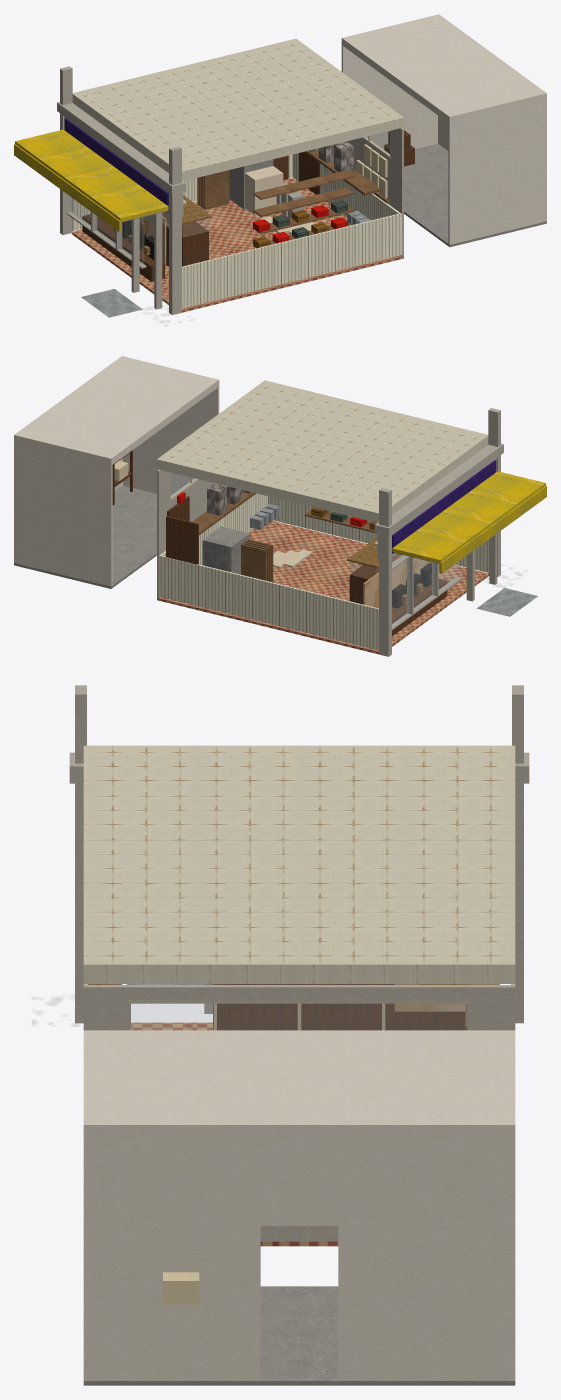
Rendered from shop_photo_supplies.gltf.
The picture shows the model from 3 angles, top to bottom: view 1: azimuth 30°, elevation 25°; view 2: azimuth 150°, elevation 25°; view 3: azimuth 270°, elevation 25°; orthographic projection. The views are drawn at different scales.
Parts seen in each view (by area): view 1: F01_OWN_SHOP_PHOTO_SUPPLIES_retail_shop_photo_supplies_plast (×2), F01_OWN_SHOP_PHOTO_SUPPLIES_retail_shop_photo_supplies_tin_c, F01_OWN_SHOP_PHOTO_SUPPLIES_retail_shop_photo_supplies_wains, F01_OWN_SHOP_PHOTO_SUPPLIES_retail_shop_photo_supplies_awnin, F01_OWN_SHOP_PHOTO_SUPPLIES_retail_shop_photo_supplies_linol, F01_OWN_SHOP_PHOTO_SUPPLIES_retail_shop_photo_supplies_timbe, F01_OWN_SHOP_PHOTO_SUPPLIES_retail_shop_photo_supplies_concr, F01_OWN_SHOP_PHOTO_SUPPLIES_retail_shop_photo_supplies_wood_, F01_OWN_SHOP_PHOTO_SUPPLIES_retail_shop_photo_supplies_glass, F01_OWN_SHOP_PHOTO_SUPPLIES_retail_shop_photo_supplies_ename, F01_OWN_SHOP_PHOTO_SUPPLIES_retail_shop_photo_supplies_felt_, F01_OWN_SHOP_PHOTO_SUPPLIES_retail_shop_photo_supplies_metal (+9 smaller); view 2: F01_OWN_SHOP_PHOTO_SUPPLIES_retail_shop_photo_supplies_plast (×2), F01_OWN_SHOP_PHOTO_SUPPLIES_retail_shop_photo_supplies_tin_c, F01_OWN_SHOP_PHOTO_SUPPLIES_retail_shop_photo_supplies_wains, F01_OWN_SHOP_PHOTO_SUPPLIES_retail_shop_photo_supplies_linol, F01_OWN_SHOP_PHOTO_SUPPLIES_retail_shop_photo_supplies_awnin, F01_OWN_SHOP_PHOTO_SUPPLIES_retail_shop_photo_supplies_concr, F01_OWN_SHOP_PHOTO_SUPPLIES_retail_shop_photo_supplies_wood_, F01_OWN_SHOP_PHOTO_SUPPLIES_retail_shop_photo_supplies_glass, F01_OWN_SHOP_PHOTO_SUPPLIES_retail_shop_photo_supplies_timbe, F01_OWN_SHOP_PHOTO_SUPPLIES_retail_shop_photo_supplies_metal, F01_OWN_SHOP_PHOTO_SUPPLIES_retail_shop_photo_supplies_felt_, F01_OWN_SHOP_PHOTO_SUPPLIES_retail_shop_photo_supplies_hull- (+7 smaller); view 3: F01_OWN_SHOP_PHOTO_SUPPLIES_retail_shop_photo_supplies_plast (×2), F01_OWN_SHOP_PHOTO_SUPPLIES_retail_shop_photo_supplies_tin_c, F01_OWN_SHOP_PHOTO_SUPPLIES_retail_shop_photo_supplies_concr, F01_OWN_SHOP_PHOTO_SUPPLIES_retail_shop_photo_supplies_glass, F01_OWN_SHOP_PHOTO_SUPPLIES_retail_shop_photo_supplies_wood_, F01_OWN_SHOP_PHOTO_SUPPLIES_retail_shop_photo_supplies_paper, F01_OWN_SHOP_PHOTO_SUPPLIES_retail_shop_photo_supplies_linol, F01_OWN_SHOP_PHOTO_SUPPLIES_retail_shop_photo_supplies_trim-.
Boxes of the visible parts, x1,y1,x2,y2 form: F01_OWN_SHOP_PHOTO_SUPPLIES_retail_shop_photo_supplies_plast (×2): [57, 14, 546, 314]; F01_OWN_SHOP_PHOTO_SUPPLIES_retail_shop_photo_supplies_tin_c: [72, 38, 403, 180]; F01_OWN_SHOP_PHOTO_SUPPLIES_retail_shop_photo_supplies_wains: [72, 153, 402, 308]; F01_OWN_SHOP_PHOTO_SUPPLIES_retail_shop_photo_supplies_awnin: [14, 129, 168, 232]; F01_OWN_SHOP_PHOTO_SUPPLIES_retail_shop_photo_supplies_linol: [71, 178, 403, 312]; F01_OWN_SHOP_PHOTO_SUPPLIES_retail_shop_photo_supplies_timbe: [197, 150, 389, 247]; F01_OWN_SHOP_PHOTO_SUPPLIES_retail_shop_photo_supplies_concr: [404, 144, 546, 247]; F01_OWN_SHOP_PHOTO_SUPPLIES_retail_shop_photo_supplies_wood_: [82, 130, 414, 281]; F01_OWN_SHOP_PHOTO_SUPPLIES_retail_shop_photo_supplies_glass: [69, 131, 389, 265]; F01_OWN_SHOP_PHOTO_SUPPLIES_retail_shop_photo_supplies_ename: [245, 166, 314, 234]; F01_OWN_SHOP_PHOTO_SUPPLIES_retail_shop_photo_supplies_felt_: [64, 118, 168, 211]; F01_OWN_SHOP_PHOTO_SUPPLIES_retail_shop_photo_supplies_metal: [81, 210, 370, 317]; F01_OWN_SHOP_PHOTO_SUPPLIES_retail_shop_photo_supplies_plast (×2): [14, 356, 503, 656]; F01_OWN_SHOP_PHOTO_SUPPLIES_retail_shop_photo_supplies_tin_c: [157, 380, 488, 522]; F01_OWN_SHOP_PHOTO_SUPPLIES_retail_shop_photo_supplies_wains: [157, 493, 488, 650]; F01_OWN_SHOP_PHOTO_SUPPLIES_retail_shop_photo_supplies_linol: [157, 521, 489, 654]; F01_OWN_SHOP_PHOTO_SUPPLIES_retail_shop_photo_supplies_awnin: [392, 471, 546, 573]; F01_OWN_SHOP_PHOTO_SUPPLIES_retail_shop_photo_supplies_concr: [14, 485, 156, 588]; F01_OWN_SHOP_PHOTO_SUPPLIES_retail_shop_photo_supplies_wood_: [112, 450, 447, 636]; F01_OWN_SHOP_PHOTO_SUPPLIES_retail_shop_photo_supplies_glass: [171, 473, 459, 627]; F01_OWN_SHOP_PHOTO_SUPPLIES_retail_shop_photo_supplies_timbe: [192, 492, 374, 582]; F01_OWN_SHOP_PHOTO_SUPPLIES_retail_shop_photo_supplies_metal: [250, 504, 537, 616]; F01_OWN_SHOP_PHOTO_SUPPLIES_retail_shop_photo_supplies_felt_: [392, 460, 496, 553]; F01_OWN_SHOP_PHOTO_SUPPLIES_retail_shop_photo_supplies_hull-: [202, 526, 249, 574]; F01_OWN_SHOP_PHOTO_SUPPLIES_retail_shop_photo_supplies_plast (×2): [69, 685, 529, 1380]; F01_OWN_SHOP_PHOTO_SUPPLIES_retail_shop_photo_supplies_tin_c: [83, 745, 515, 983]; F01_OWN_SHOP_PHOTO_SUPPLIES_retail_shop_photo_supplies_concr: [83, 1286, 515, 1385]; F01_OWN_SHOP_PHOTO_SUPPLIES_retail_shop_photo_supplies_glass: [131, 984, 467, 1029]; F01_OWN_SHOP_PHOTO_SUPPLIES_retail_shop_photo_supplies_wood_: [213, 984, 465, 1030]; F01_OWN_SHOP_PHOTO_SUPPLIES_retail_shop_photo_supplies_paper: [163, 1272, 199, 1304]; F01_OWN_SHOP_PHOTO_SUPPLIES_retail_shop_photo_supplies_linol: [131, 1022, 338, 1246]; F01_OWN_SHOP_PHOTO_SUPPLIES_retail_shop_photo_supplies_trim-: [127, 999, 471, 1030].
Bounding box in the file's own units: 11.66 × 4.25 × 5.76.
33 materials, 31 textured.
